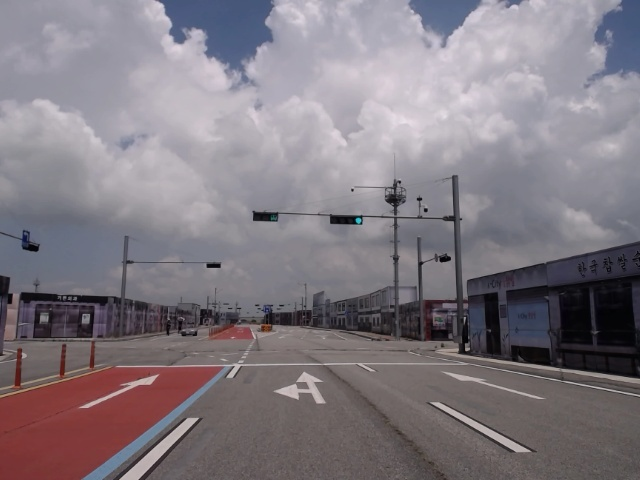straight_green_4: (329, 214, 362, 225)
